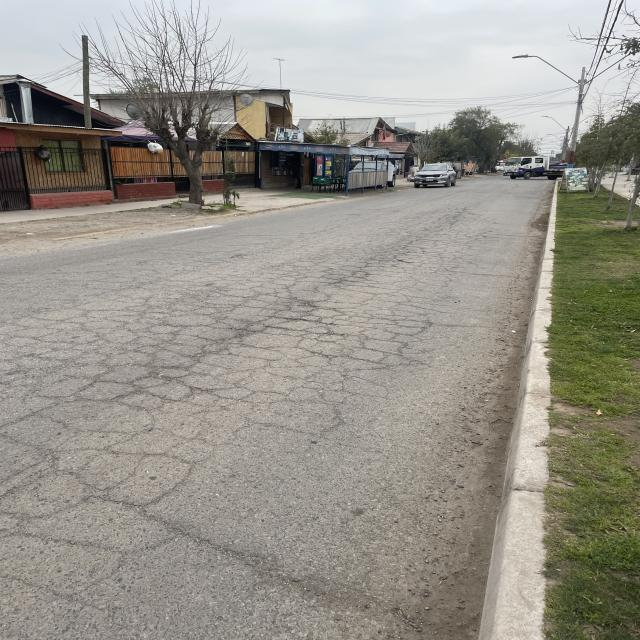GRIETA: (182, 528, 423, 629)
PIEL DE COCODRILO: (0, 271, 449, 639), (269, 203, 499, 290)
